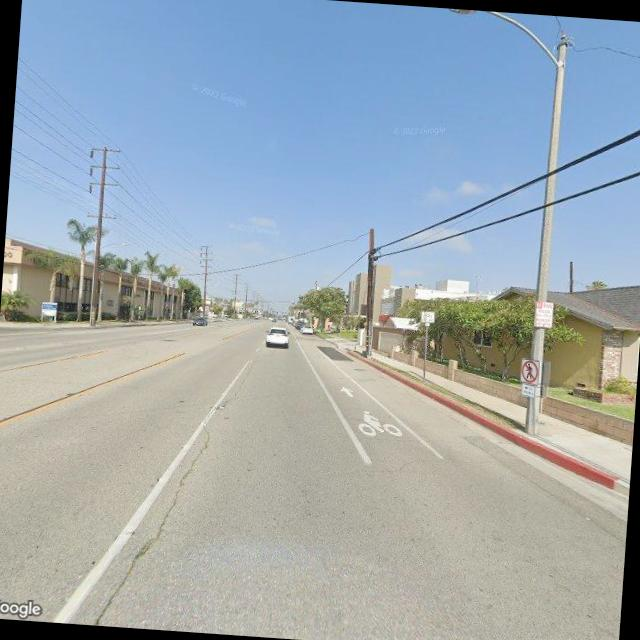pothole: (100, 342, 253, 629)
